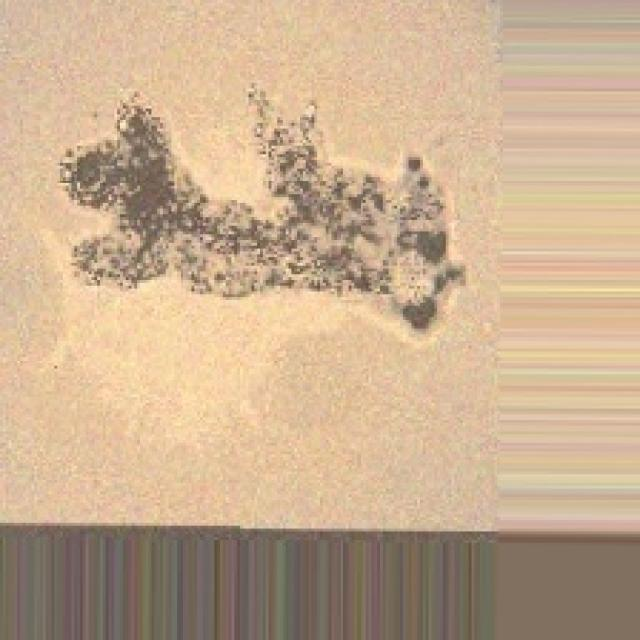Amoeba: (54, 80, 466, 331)
